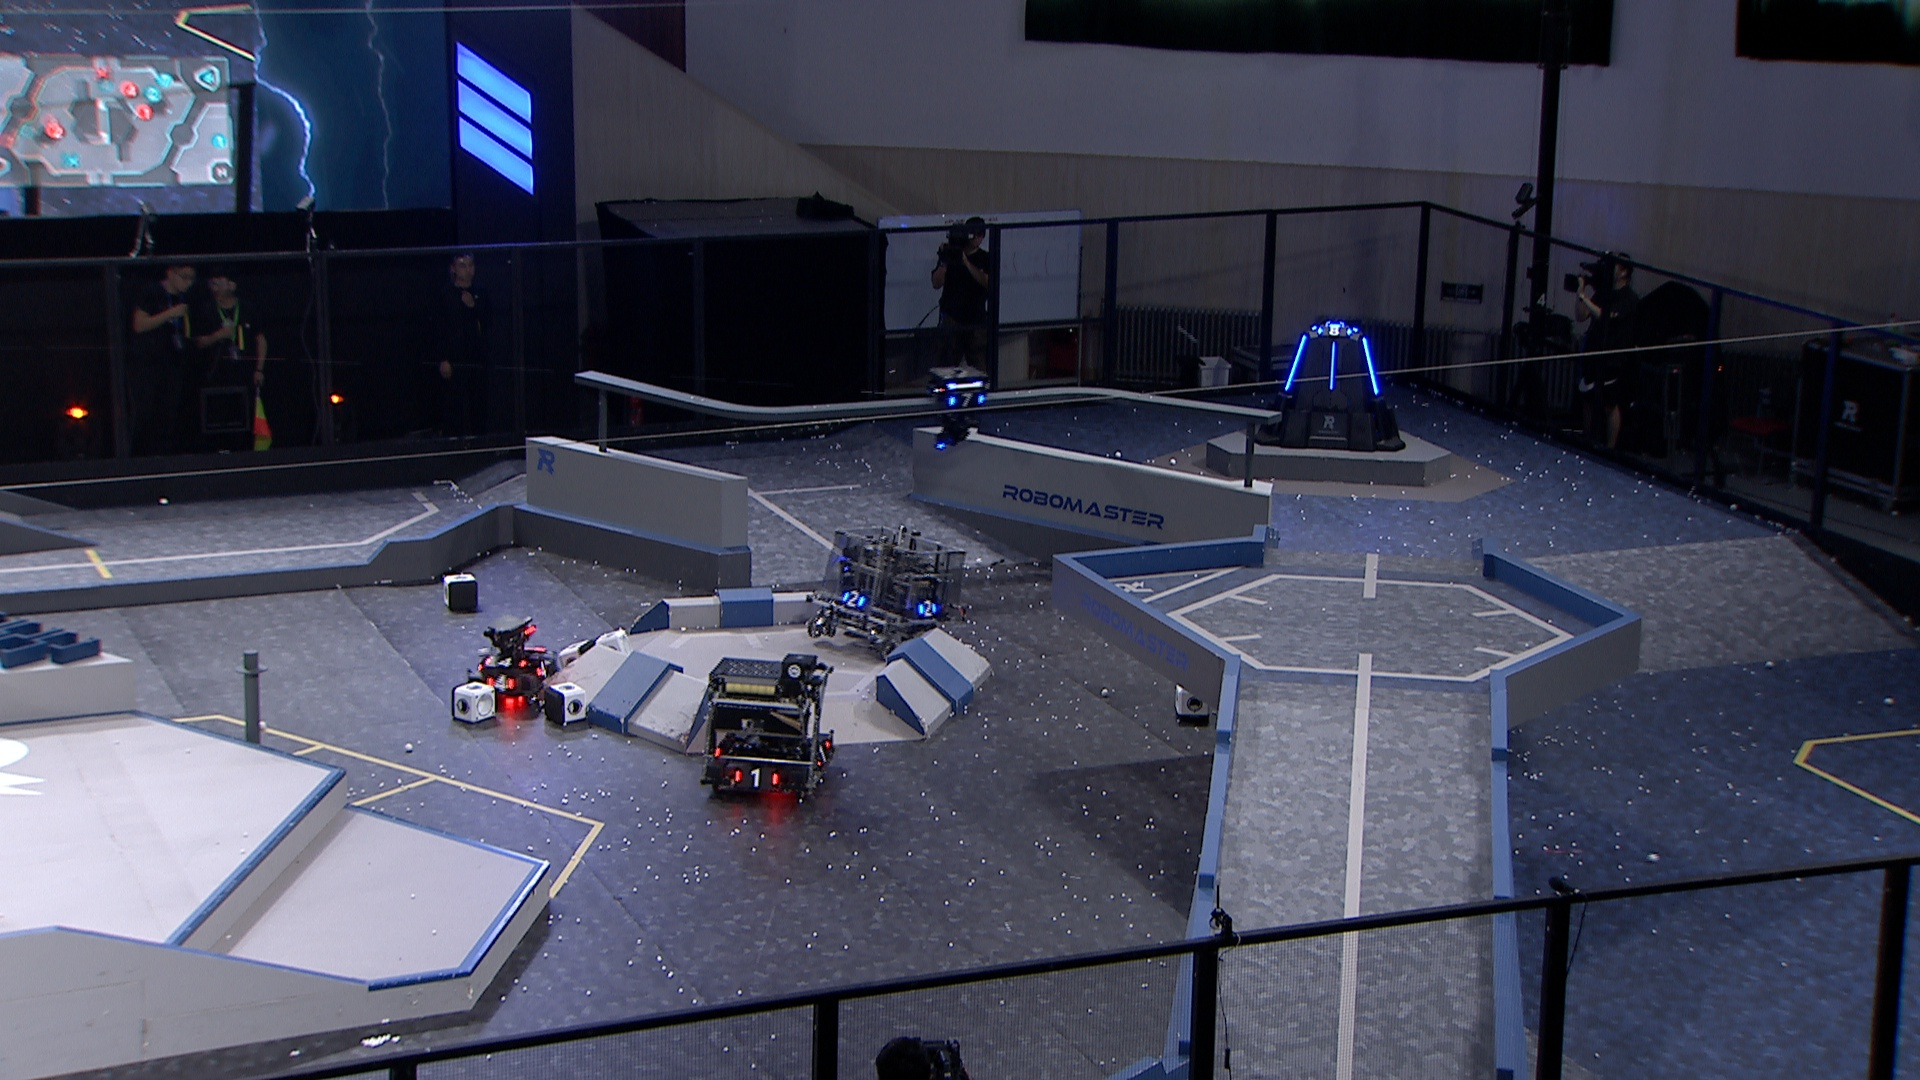armor: (1282, 334, 1307, 394), (1358, 335, 1381, 398), (731, 764, 781, 789), (945, 392, 986, 410), (481, 673, 517, 694), (480, 655, 526, 669), (1315, 323, 1353, 339), (1328, 342, 1340, 392), (915, 597, 940, 618), (814, 740, 831, 770), (840, 589, 866, 608), (534, 657, 551, 683)
base: (1254, 319, 1410, 454)
car: (804, 527, 972, 665), (694, 655, 840, 802), (462, 615, 562, 707)
watcher: (924, 363, 992, 448)
